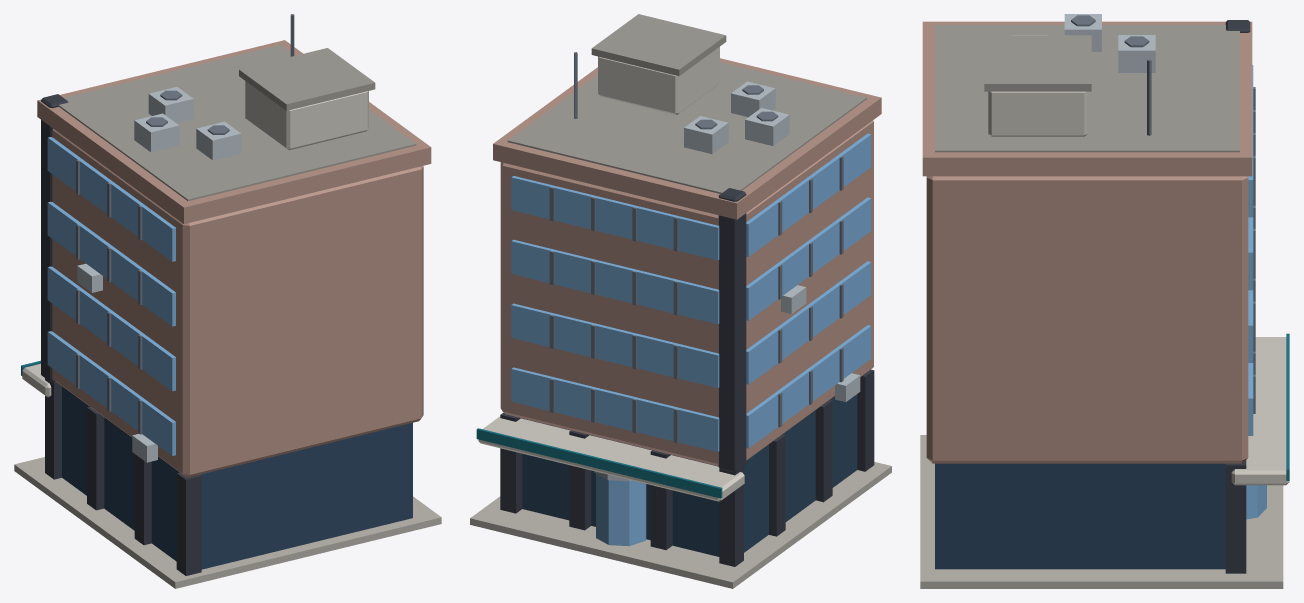
Rendered from predio_banco.glb.
3 renders of one model, left to right at view 1: azimuth 30°, elevation 25°; view 2: azimuth 150°, elevation 25°; view 3: azimuth 270°, elevation 25°, orthographic. The views are drawn at different scales.
Visible parts, largest first — view 1: corpo; view 2: corpo; view 3: corpo.
Boxes of the visible parts, x1,y1,x2,y2 form: corpo: (14, 14, 441, 588); corpo: (470, 14, 891, 588); corpo: (920, 14, 1289, 588).
Size of the model in its own units: 0.84 by 1.35 by 0.895.
